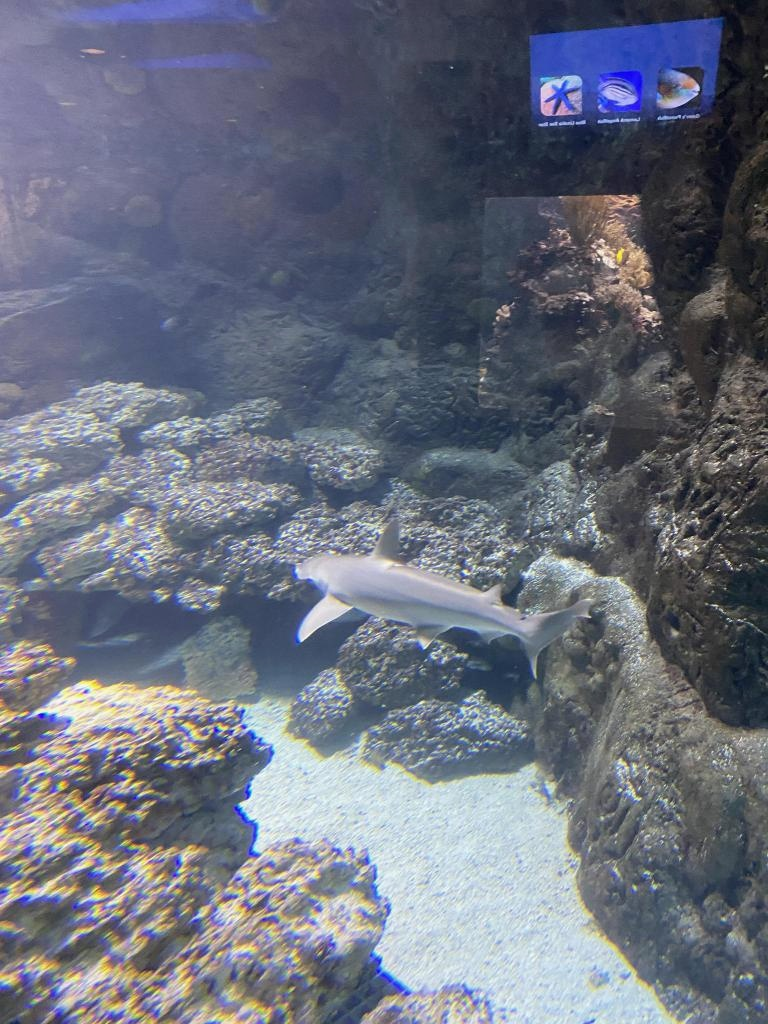shark: (296, 518, 594, 678)
